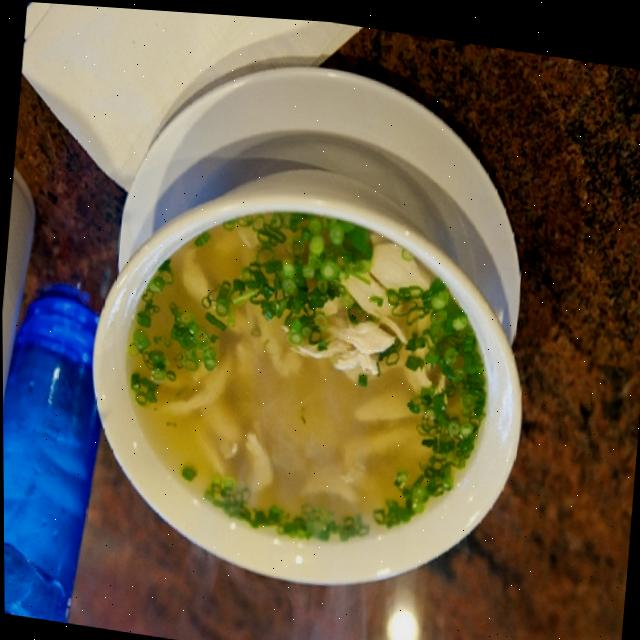汤锅炖物: (81, 164, 529, 600)
